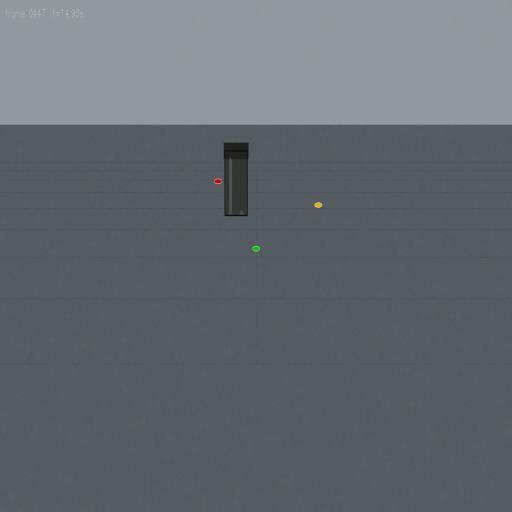bin: (223, 142, 249, 217)
